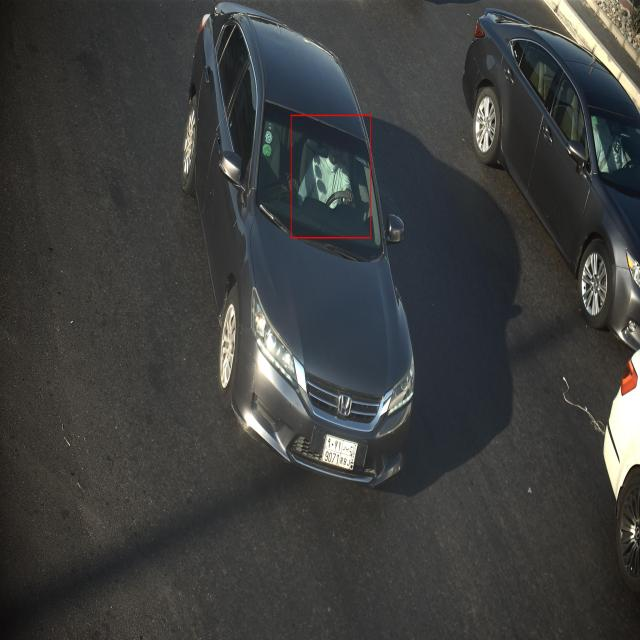windshield: (258, 98, 387, 275), (583, 102, 640, 200)
